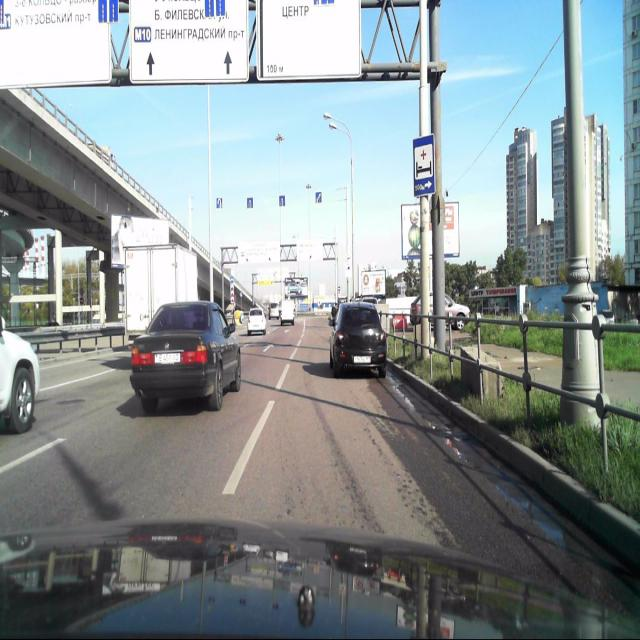road sign: (412, 139, 434, 196)
